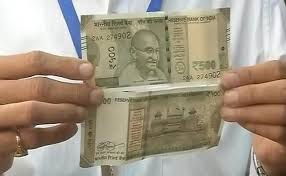fiveHundred: (91, 27, 226, 78)
